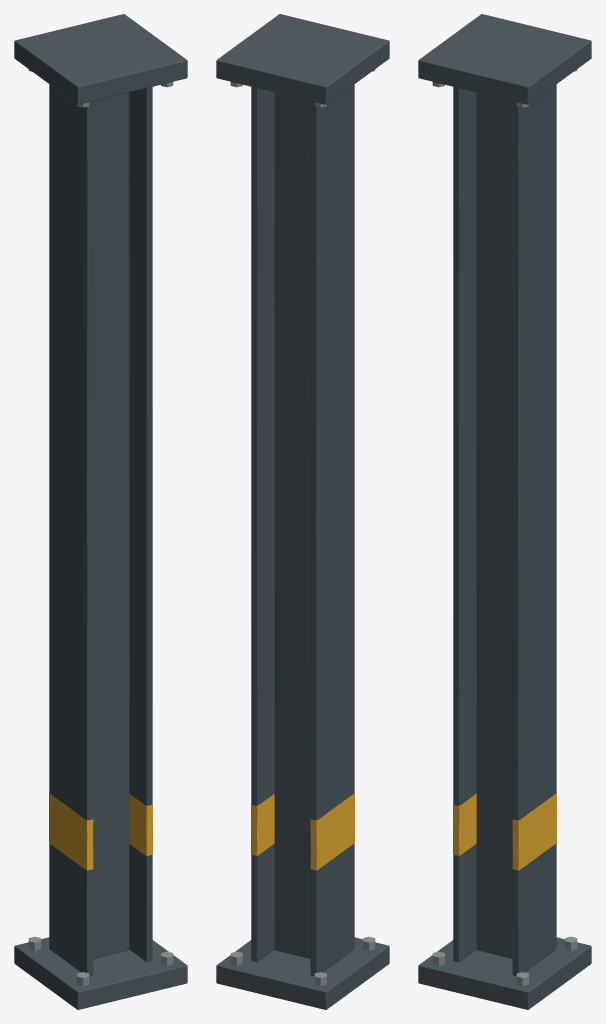
The picture shows the model from 3 angles, left to right: view 1: azimuth 30°, elevation 25°; view 2: azimuth 150°, elevation 25°; view 3: azimuth 330°, elevation 25°; orthographic projection.
Parts seen in each view (by area): view 1: SM_NPP_Column_4m_A; view 2: SM_NPP_Column_4m_A; view 3: SM_NPP_Column_4m_A.
Part boxes in pixels (x1=…): SM_NPP_Column_4m_A: x1=14, y1=14, x2=187, y2=1009; SM_NPP_Column_4m_A: x1=216, y1=14, x2=389, y2=1009; SM_NPP_Column_4m_A: x1=418, y1=14, x2=591, y2=1009.
Size of the model in its own units: 0.5 by 4 by 0.5.
